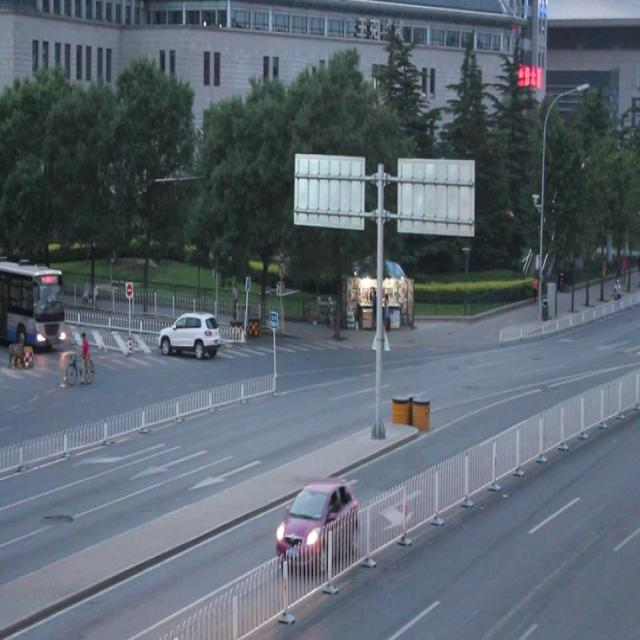car: (274, 473, 358, 566), (158, 305, 222, 361)
van: (1, 254, 66, 354)
